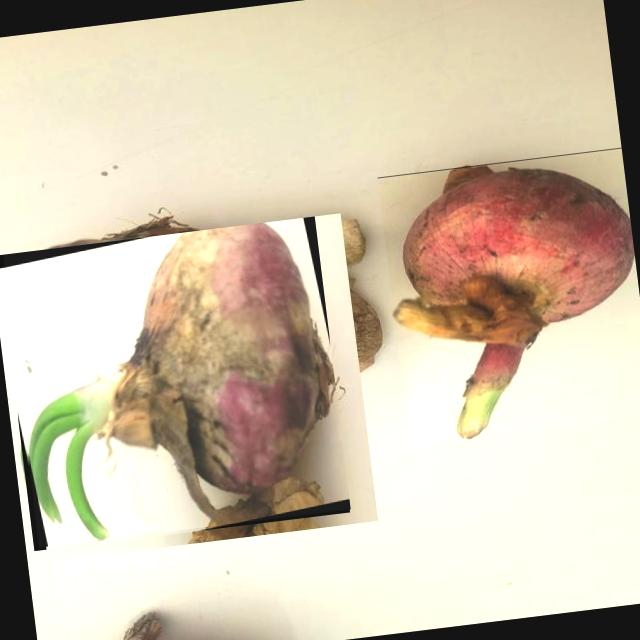mould: (126, 318, 232, 462)
sprouting: (28, 223, 335, 524), (394, 166, 634, 436)
